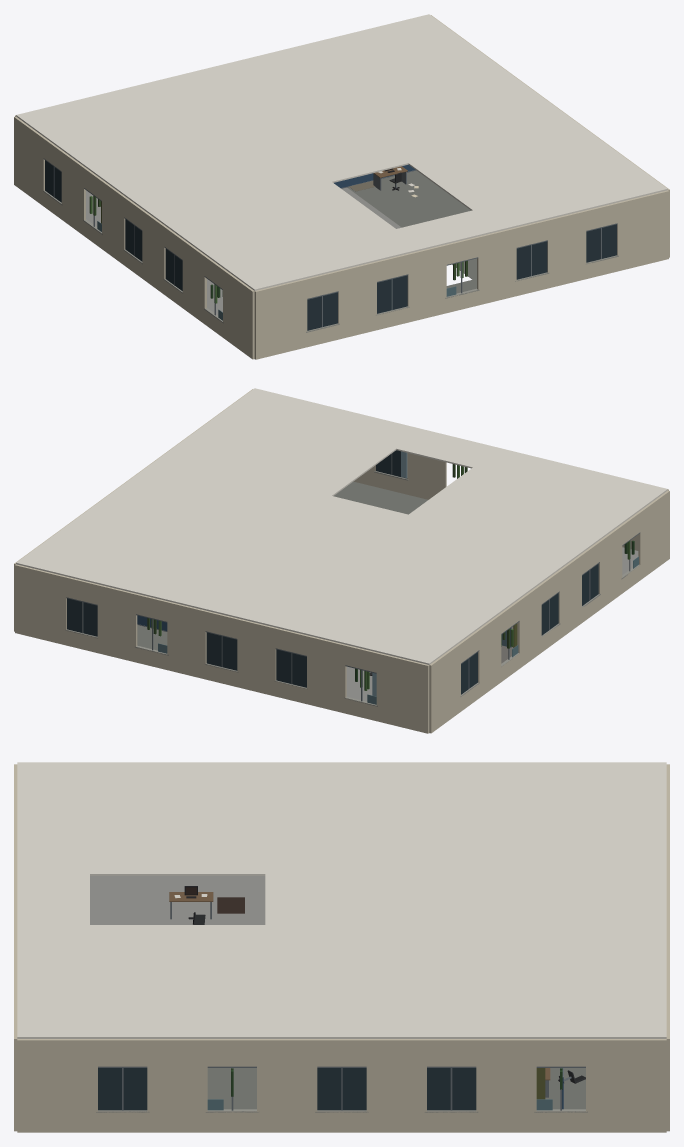
Rendered from tw_interior_office_24.glb.
3 renders of one model, top to bottom at view 1: azimuth 30°, elevation 25°; view 2: azimuth 150°, elevation 25°; view 3: azimuth 270°, elevation 25°, orthographic. The views are drawn at different scales.
Parts seen in each view (by area): view 1: tw_interior_office_24; view 2: tw_interior_office_24; view 3: tw_interior_office_24.
Boxes of the visible parts, x1=… form: tw_interior_office_24: x1=14, y1=14, x2=669, y2=359; tw_interior_office_24: x1=14, y1=388, x2=669, y2=733; tw_interior_office_24: x1=14, y1=762, x2=669, y2=1132.
Size of what is drawn, in the model's own units: 24.31 by 3.82 by 23.94.
3 materials, 3 textured.
